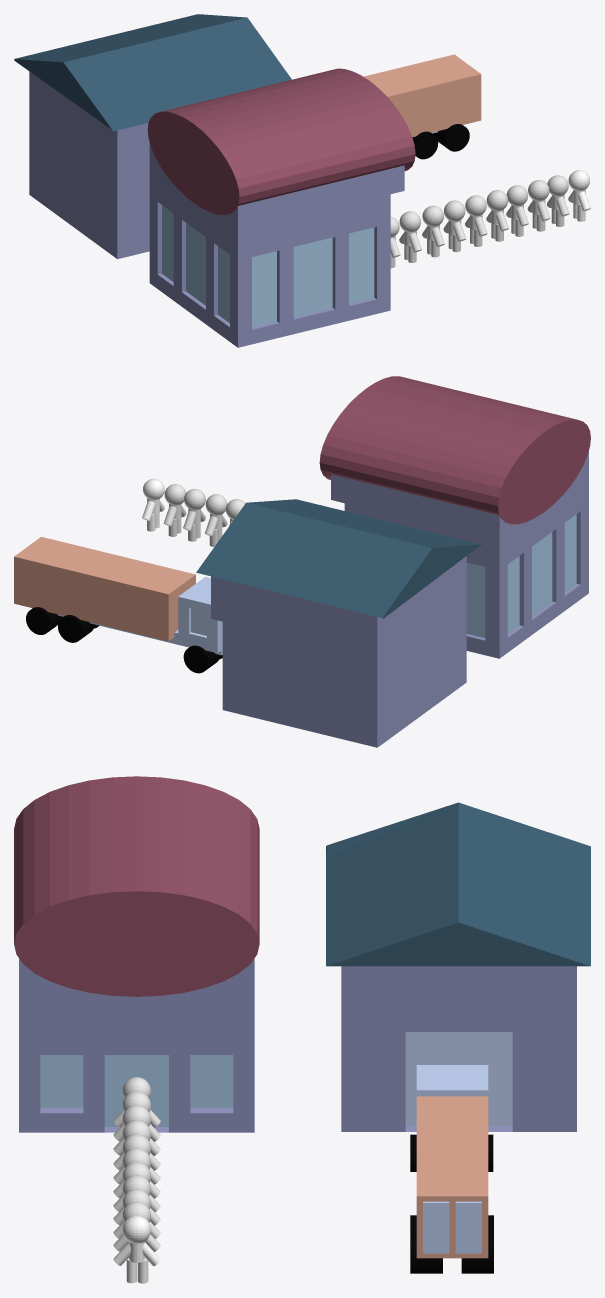
File: bakery_building.dae
3 renders of one model, top to bottom at view 1: azimuth 30°, elevation 25°; view 2: azimuth 150°, elevation 25°; view 3: azimuth 270°, elevation 25°, orthographic. The views are drawn at different scales.
Visible parts, largest first — view 1: Cube, Cylinder, Cube.003, Cube.002, Cube.004, Cylinder.064, Cylinder.065; view 2: Cube.002, Cylinder, Cube, Cube.003, Cube.004, Cube.005, Cylinder.066, Cylinder.061, Cylinder.067; view 3: Cylinder, Cube.003, Cube.002, Cube, Cube.004, Cube.005, Cylinder.064, Cylinder.067, Sphere.011.
Part boxes in pixels (x1=…): Cube: x1=149, y1=143, x2=404, y2=347; Cylinder: x1=147, y1=68, x2=415, y2=214; Cube.003: x1=14, y1=14, x2=291, y2=131; Cube.002: x1=29, y1=71, x2=149, y2=259; Cube.004: x1=363, y1=54, x2=481, y2=137; Cylinder.064: x1=433, y1=124, x2=469, y2=151; Cylinder.065: x1=412, y1=131, x2=438, y2=159; Cube.002: x1=211, y1=556, x2=466, y2=747; Cylinder: x1=319, y1=376, x2=590, y2=524; Cube: x1=331, y1=451, x2=588, y2=658; Cube.003: x1=196, y1=499, x2=481, y2=618; Cube.004: x1=14, y1=536, x2=195, y2=641; Cube.005: x1=178, y1=577, x2=222, y2=653; Cylinder.066: x1=58, y1=615, x2=94, y2=642; Cylinder.061: x1=183, y1=645, x2=220, y2=673; Cylinder.067: x1=26, y1=607, x2=62, y2=634; Cylinder: x1=14, y1=776, x2=259, y2=996; Cube.003: x1=326, y1=802, x2=590, y2=966; Cube.002: x1=341, y1=966, x2=576, y2=1131; Cube: x1=19, y1=958, x2=254, y2=1132; Cube.004: x1=416, y1=1096, x2=488, y2=1258; Cube.005: x1=416, y1=1065, x2=488, y2=1096; Cylinder.064: x1=410, y1=1236, x2=442, y2=1273; Cylinder.067: x1=461, y1=1236, x2=493, y2=1273; Sphere.011: x1=122, y1=1215, x2=150, y2=1243.
Bounding box in the file's own units: 5.3 × 4.89 × 2.4.
